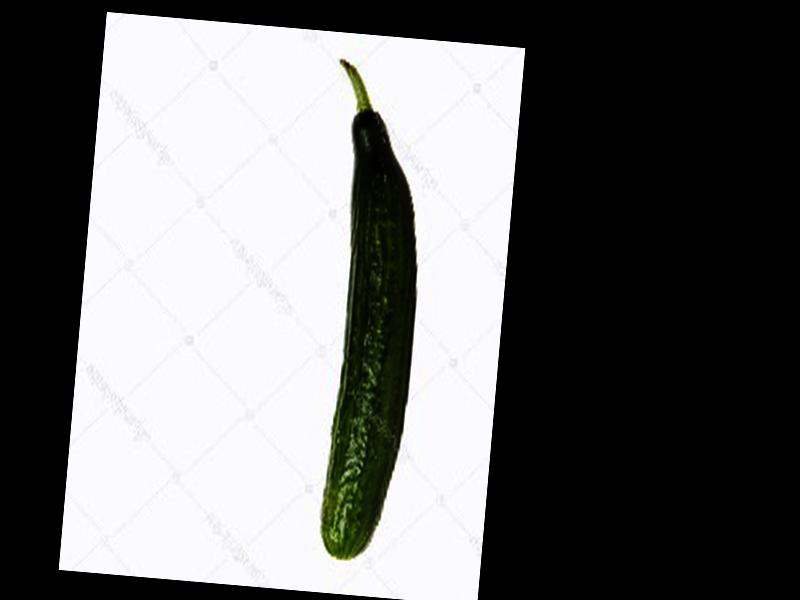Cucumber: (298, 56, 435, 561)
